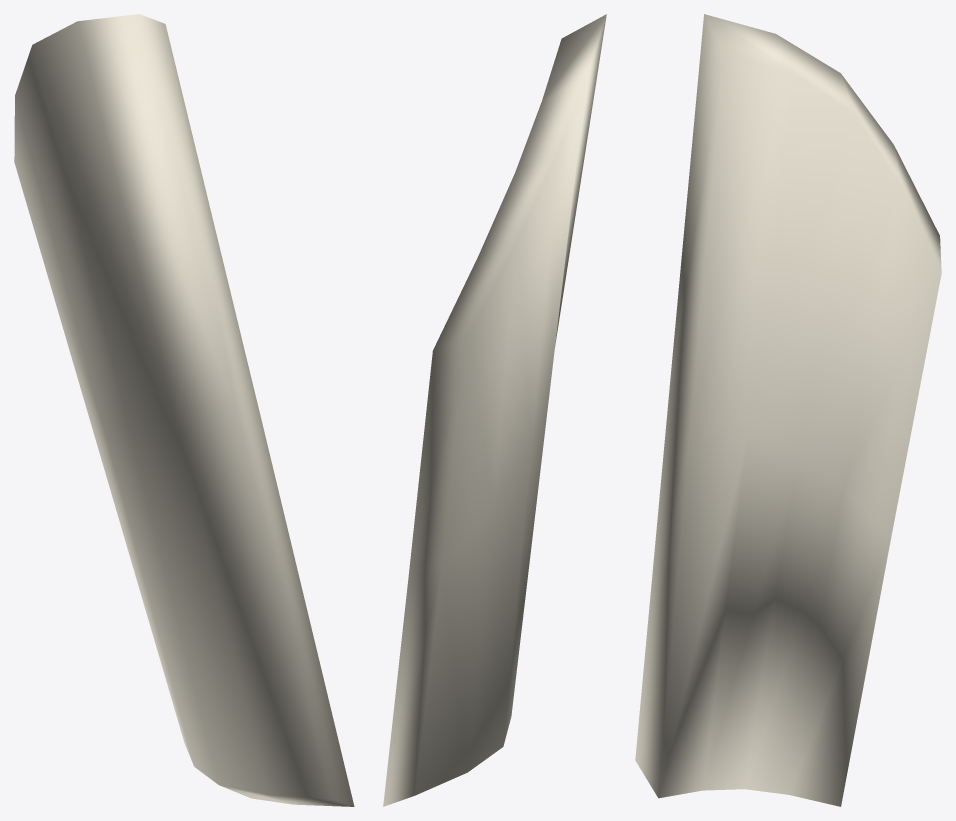
The picture shows the model from 3 angles, left to right: view 1: azimuth 30°, elevation 25°; view 2: azimuth 150°, elevation 25°; view 3: azimuth 270°, elevation 25°; orthographic projection. The views are drawn at different scales.
Parts seen in each view (by area): view 1: ZA_f6a9e207aa8a5e0a; view 2: ZA_f6a9e207aa8a5e0a; view 3: ZA_f6a9e207aa8a5e0a.
Boxes of the visible parts, left/top/right/bottom form: ZA_f6a9e207aa8a5e0a: left=14, top=14, right=354, bottom=806; ZA_f6a9e207aa8a5e0a: left=383, top=14, right=606, bottom=806; ZA_f6a9e207aa8a5e0a: left=635, top=14, right=941, bottom=806.
Size of the model in its own units: 0.00412 by 0.0153 by 0.00587.
